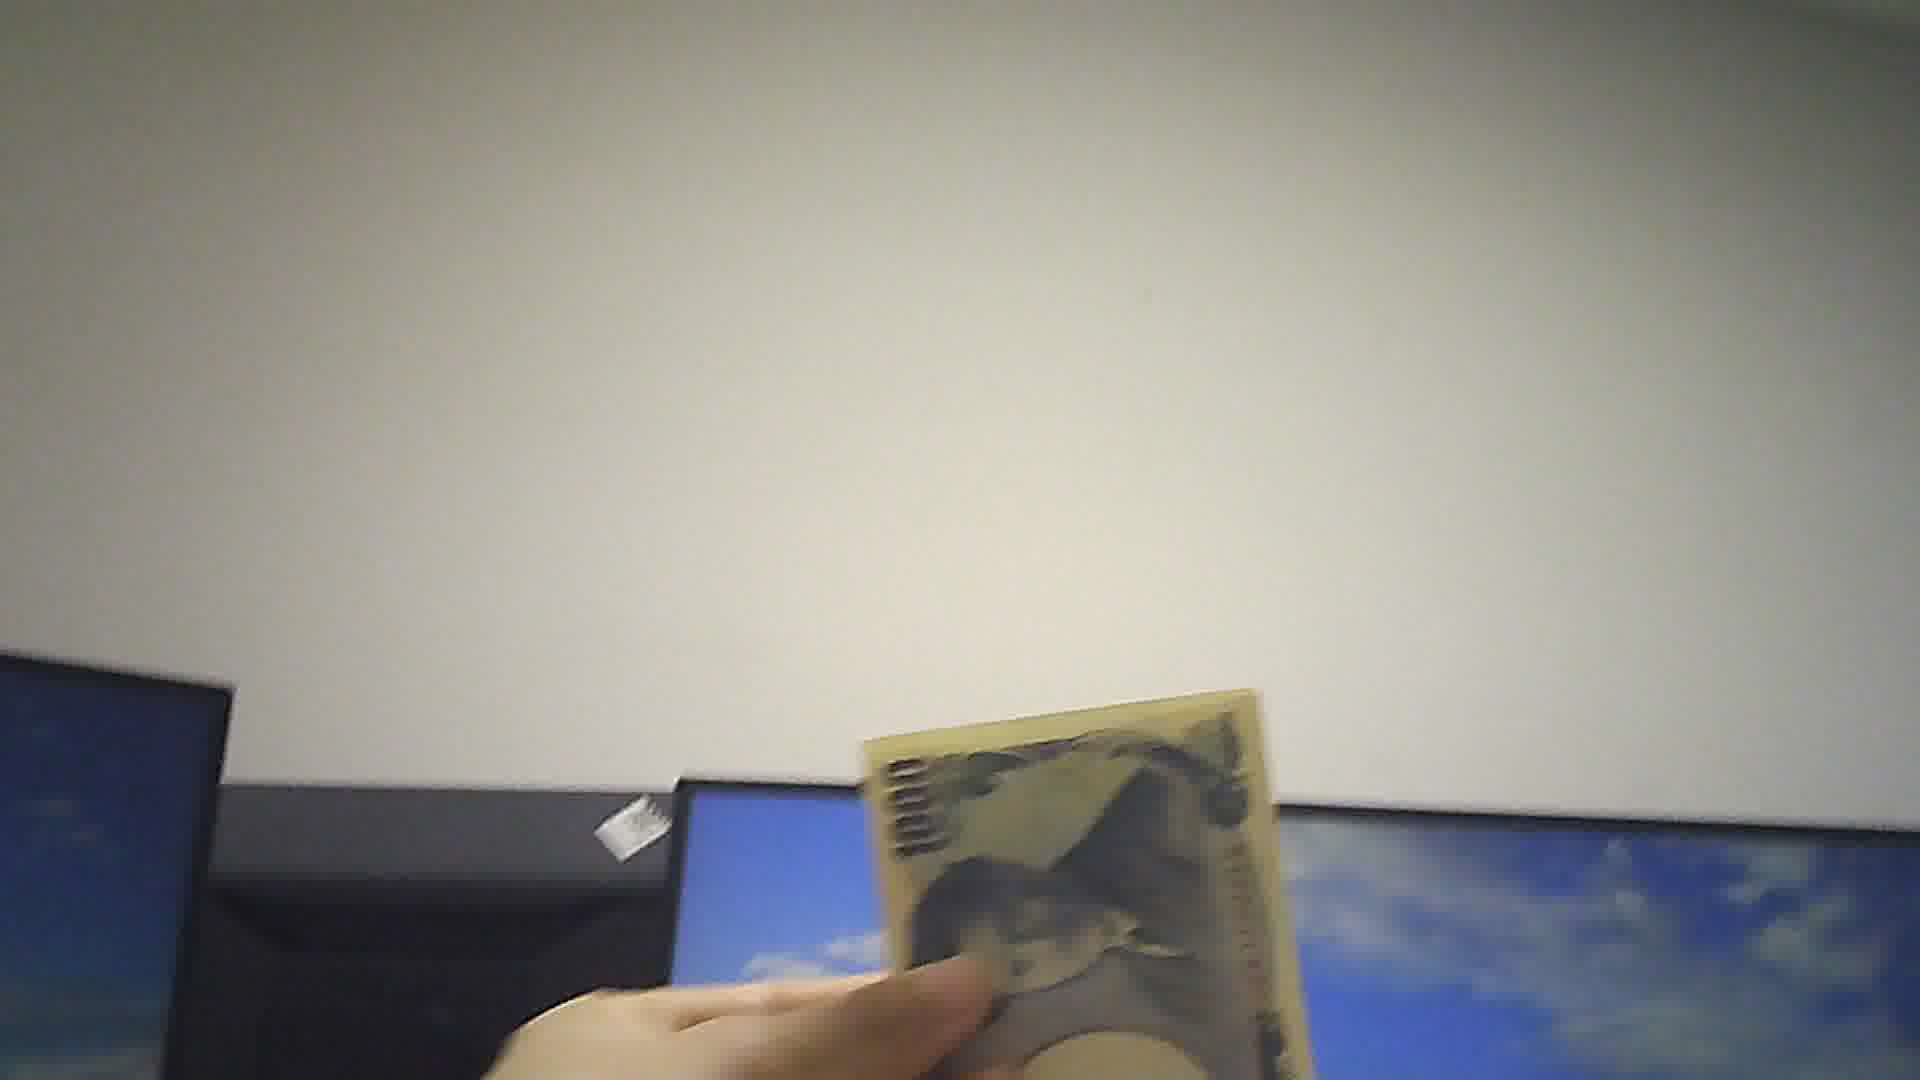1,000 Yen: (849, 688, 1315, 1079)
